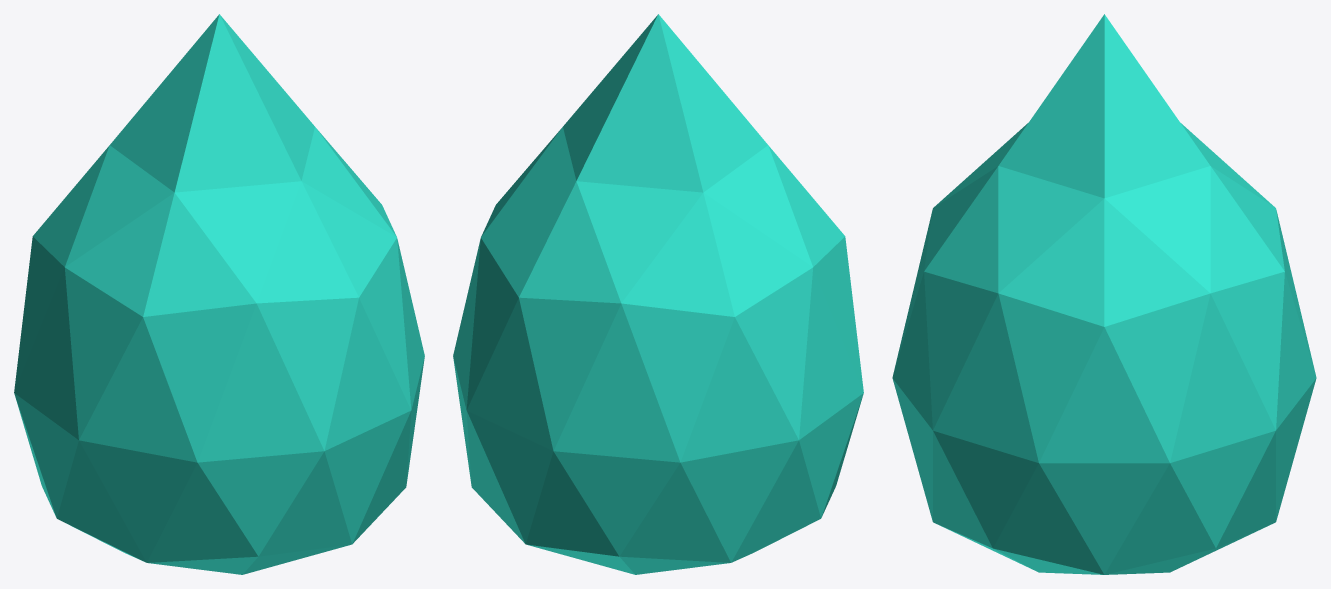
The model's file is test5-8.gltf.glb.
3 renders of one model, left to right at view 1: azimuth 30°, elevation 25°; view 2: azimuth 150°, elevation 25°; view 3: azimuth 270°, elevation 25°, orthographic.
Parts seen in each view (by area): view 1: Icosphere; view 2: Icosphere; view 3: Icosphere.
Part boxes in pixels (x1=…): Icosphere: x1=14, y1=14, x2=424, y2=574; Icosphere: x1=453, y1=14, x2=863, y2=574; Icosphere: x1=892, y1=14, x2=1316, y2=574.
Bounding box in the file's own units: 1.9 × 2.79 × 2.
